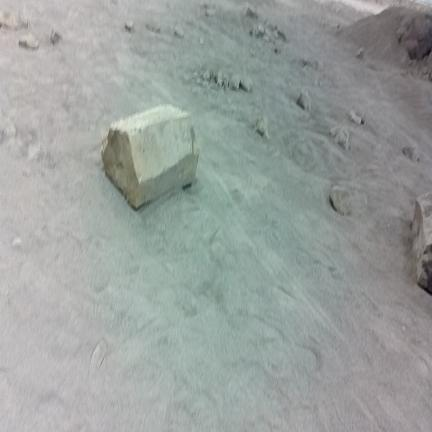Rock: (102, 105, 199, 208), (413, 193, 431, 291), (397, 14, 431, 60), (88, 336, 106, 381), (330, 186, 350, 215), (0, 13, 28, 30), (330, 127, 349, 149), (19, 34, 39, 50), (402, 146, 420, 162), (297, 90, 310, 110), (255, 117, 268, 137), (349, 110, 364, 124), (240, 75, 252, 92), (50, 29, 62, 45), (245, 4, 257, 19), (229, 75, 240, 90), (146, 23, 160, 33), (255, 25, 265, 37), (205, 7, 215, 17), (278, 30, 287, 41), (125, 21, 134, 32), (330, 126, 338, 138), (175, 26, 183, 38), (217, 71, 223, 87), (267, 23, 277, 32), (356, 48, 364, 59), (203, 70, 211, 81), (13, 237, 21, 246), (263, 34, 270, 42), (427, 53, 431, 64), (274, 48, 281, 53), (251, 49, 255, 56), (200, 38, 204, 44)
